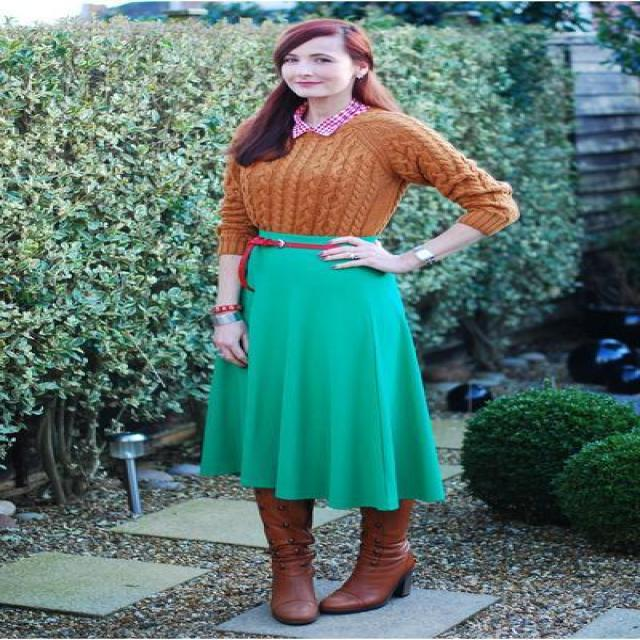jacket: (217, 120, 518, 268)
shirt: (293, 105, 363, 136)
shoe: (254, 488, 436, 625)
skirt: (192, 236, 443, 511)
